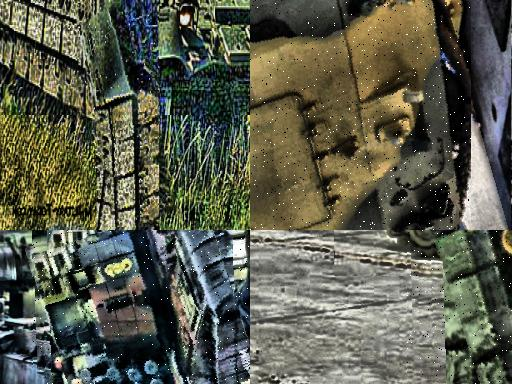tanks: (251, 1, 472, 231), (34, 231, 251, 384), (79, 2, 159, 230), (431, 231, 512, 384), (1, 231, 138, 320)
